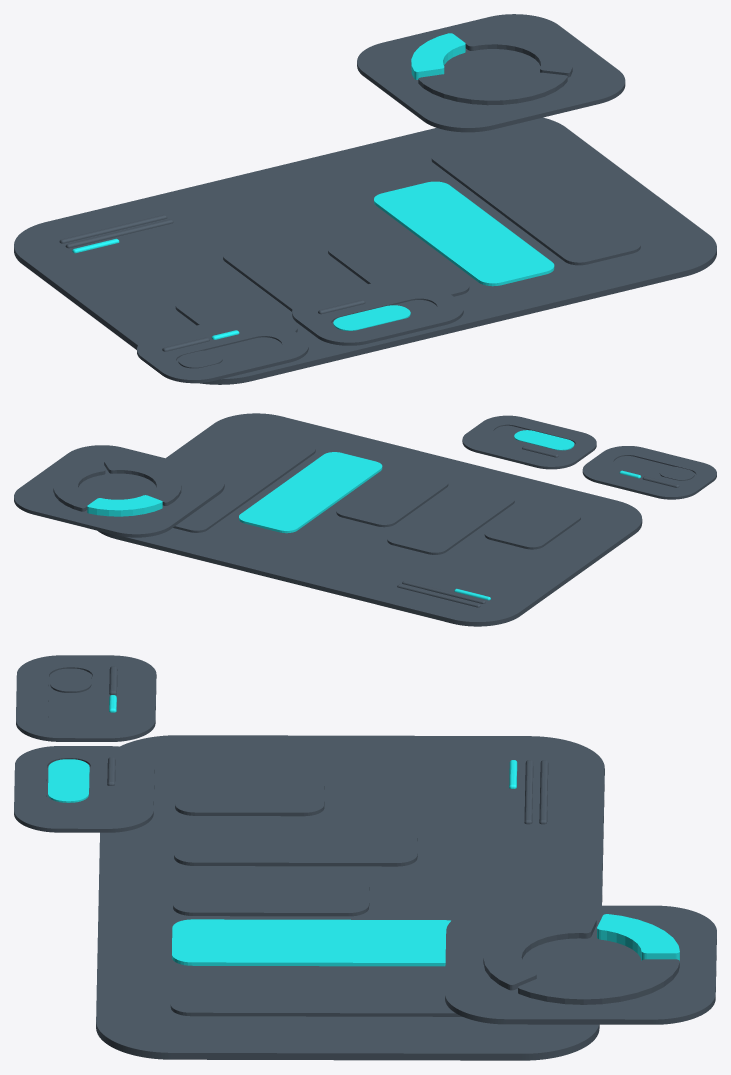
Rendered from graphs.glb.
3 renders of one model, top to bottom at view 1: azimuth 30°, elevation 25°; view 2: azimuth 150°, elevation 25°; view 3: azimuth 270°, elevation 25°, orthographic. The views are drawn at different scales.
Parts seen in each view (by area): view 1: circle; view 2: circle; view 3: circle.
Boxes of the visible parts, <box> form: circle: <box>14,14,716,384</box>; circle: <box>14,413,716,626</box>; circle: <box>14,655,716,1060</box>.
Bounding box in the file's own units: 3.56 × 0.3514 × 2.79.
